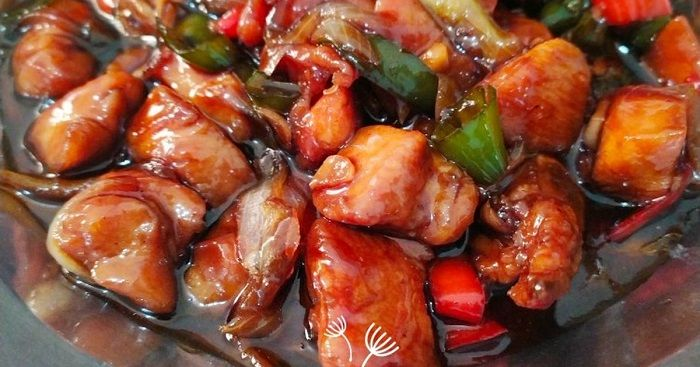Ayam: (32, 162, 228, 307), (305, 216, 430, 367), (307, 125, 485, 223), (25, 61, 145, 171), (594, 88, 686, 217)
